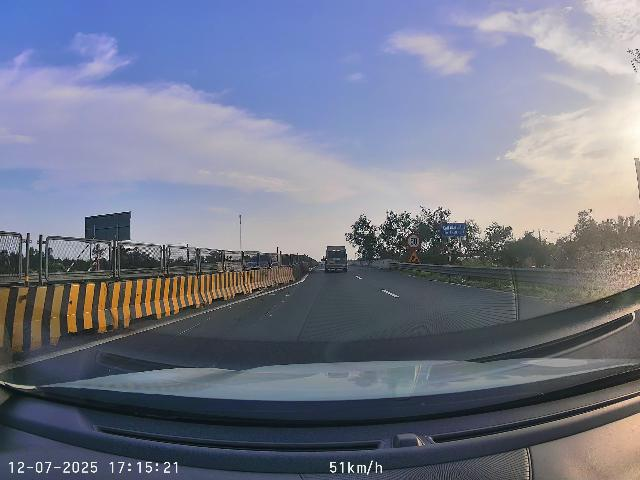127-toc-do-toi-da-50: (405, 233, 422, 250)
227-cong-truong: (407, 250, 421, 263)
